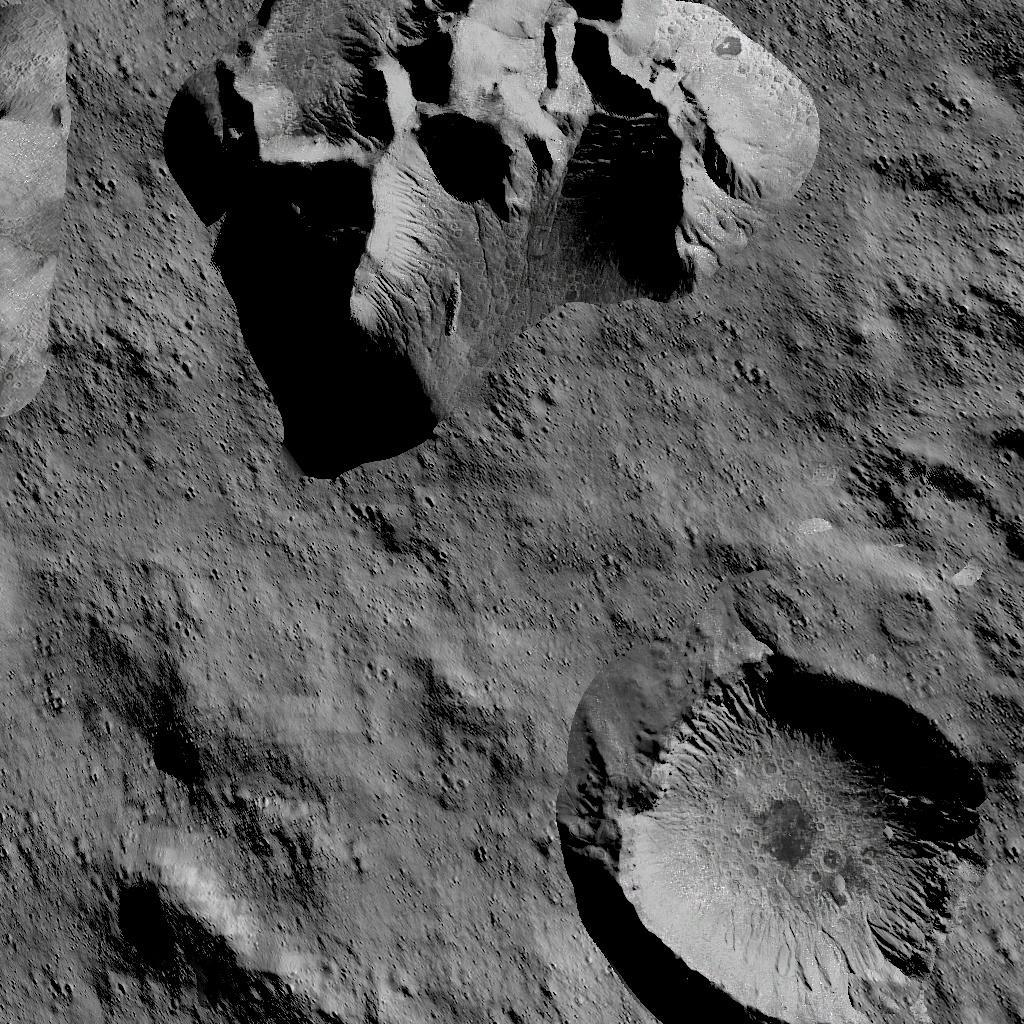Boulders: (161, 0, 822, 479), (98, 856, 304, 1024), (0, 4, 77, 422)
Crater: (559, 642, 1024, 1024), (873, 434, 1024, 584), (140, 698, 211, 794)
Plan surface: (237, 492, 542, 823), (841, 0, 1024, 378), (8, 500, 220, 685), (564, 490, 850, 620)
